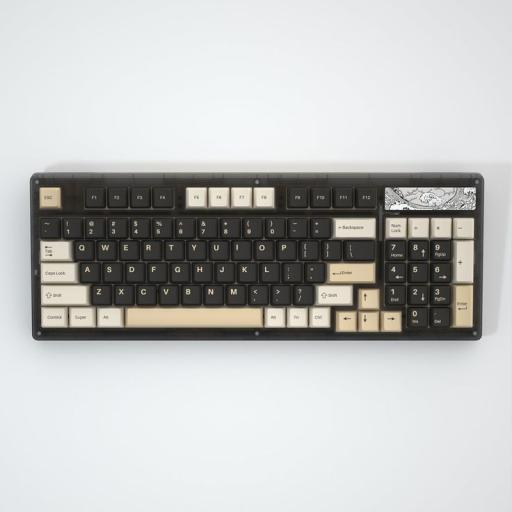keyboard: (31, 173, 483, 341)
